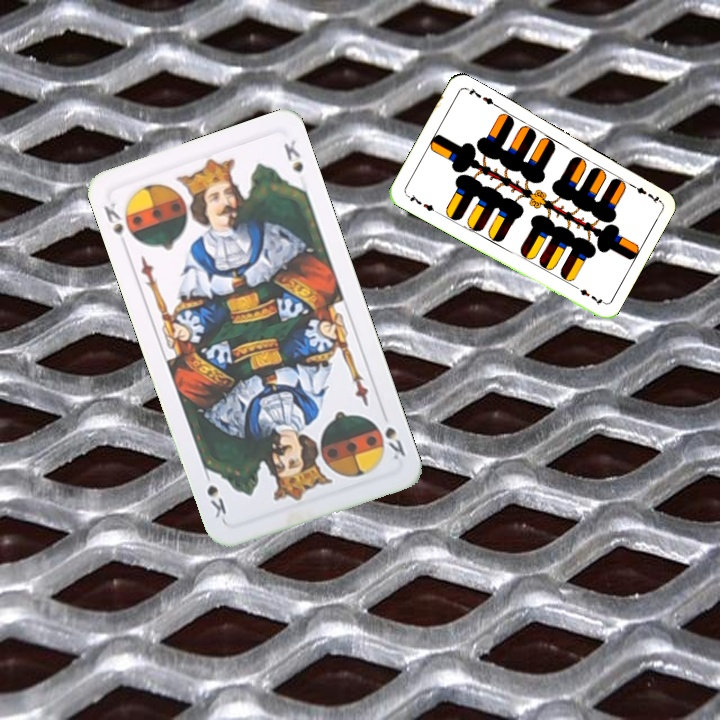E7: (625, 179, 662, 206), (403, 190, 440, 215)
SK: (99, 198, 139, 252), (380, 422, 408, 463)
